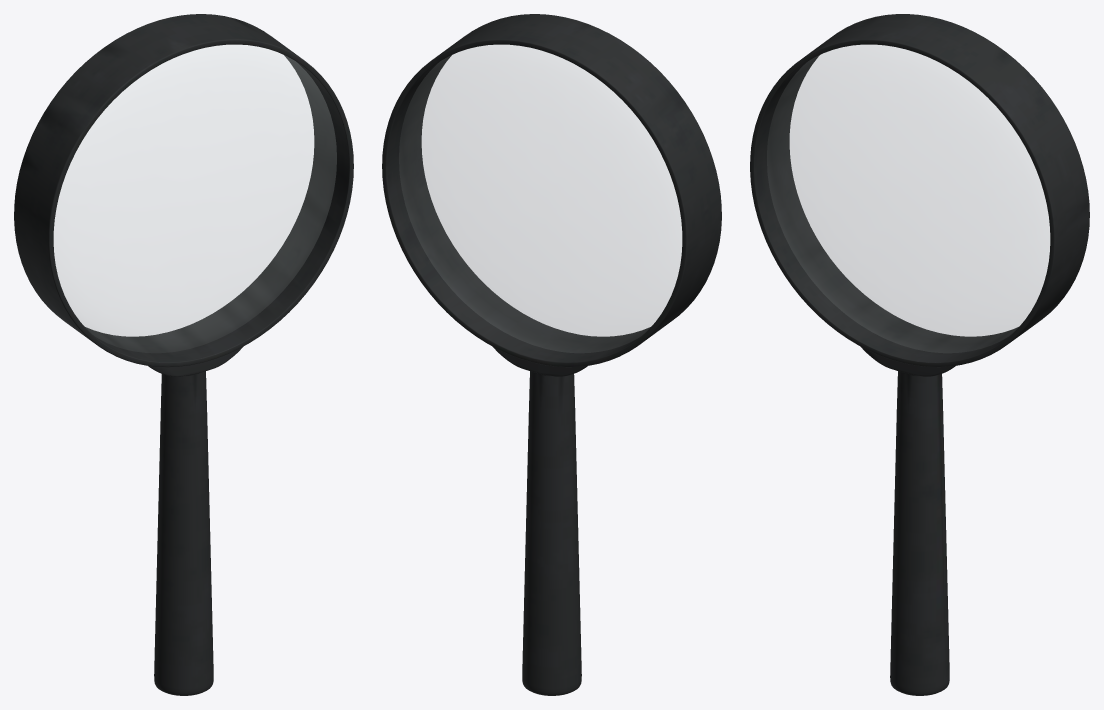
Rendered from magnifying_glass_01.glb.
The picture shows the model from 3 angles, left to right: view 1: azimuth 30°, elevation 25°; view 2: azimuth 150°, elevation 25°; view 3: azimuth 330°, elevation 25°; orthographic projection.
Parts seen in each view (by area): view 1: magnifying_glass_01; view 2: magnifying_glass_01; view 3: magnifying_glass_01.
Part boxes in pixels (x1,y1,x2,y2): magnifying_glass_01: (14, 14, 353, 695); magnifying_glass_01: (382, 14, 721, 695); magnifying_glass_01: (750, 14, 1089, 695).
Size of the model in its own units: 0.1321 by 0.2716 by 0.0267.
Materials: 2 (1 with a texture image).
